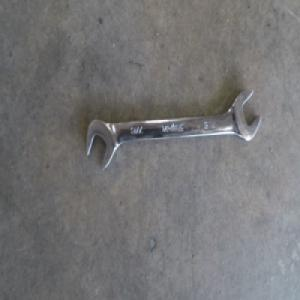Wrench: (84, 91, 256, 169)
